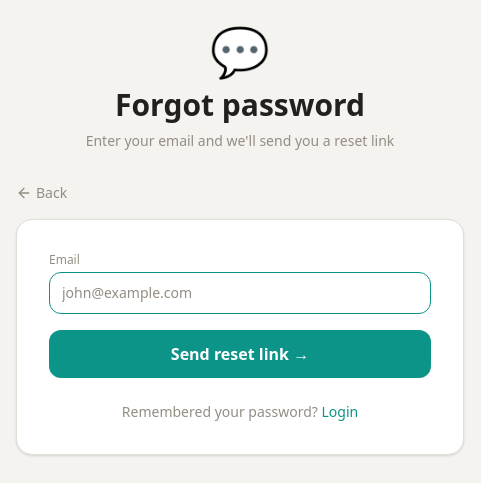
ForgotPassword page › shows a validation error when submitting an empty form
The width and height of the screenshot is (481, 483).
Click the button "Send reset link →".
click(240, 354)  # box [49, 330, 431, 378]
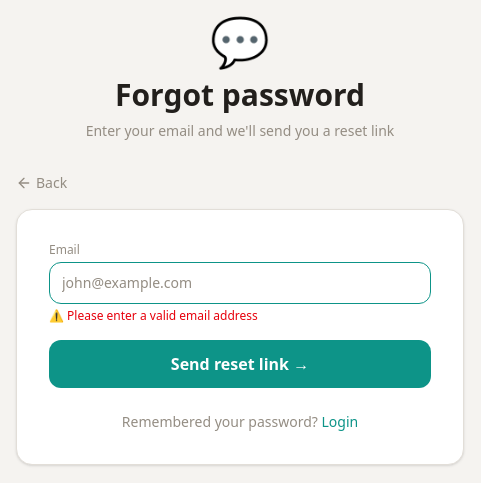
Check: the text "⚠️ Please enter a valid email address" is shown, box [49, 307, 258, 324]
